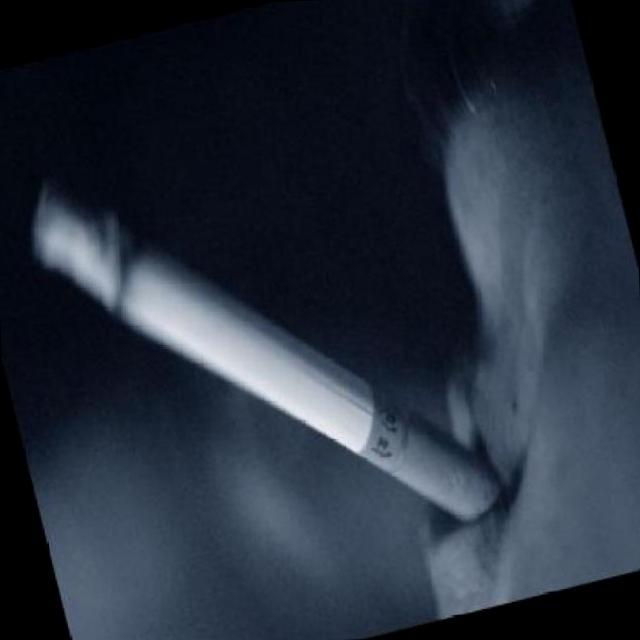smoke: (1, 78, 512, 620)
